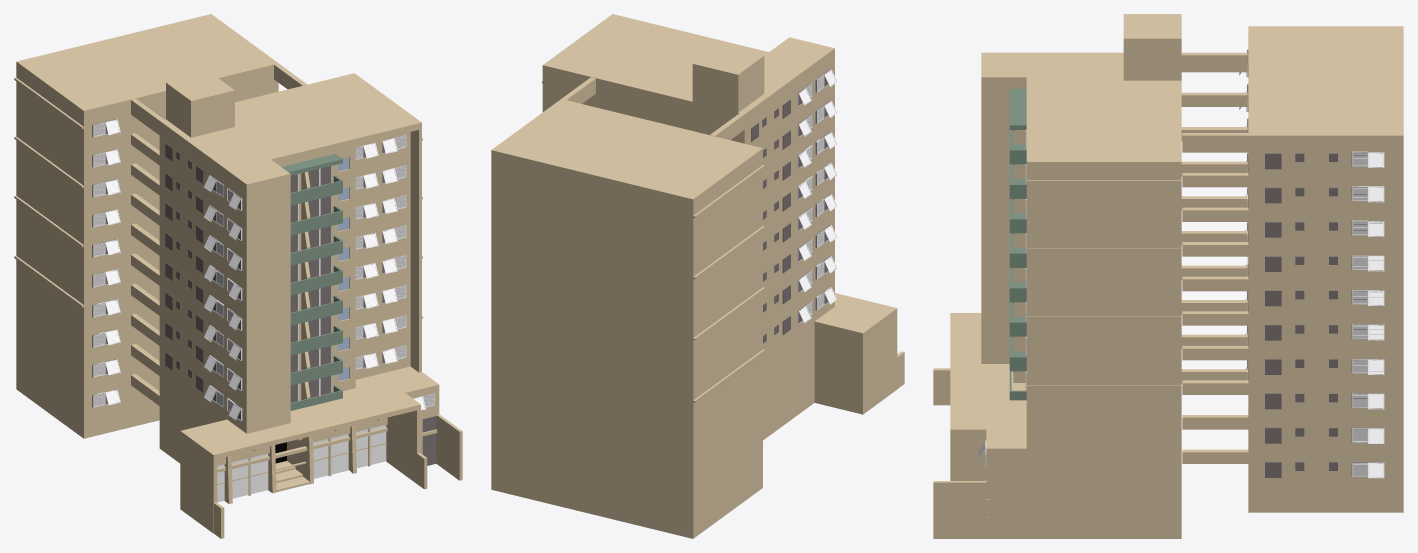
Rendered from barao.glb.
3 renders of one model, left to right at view 1: azimuth 30°, elevation 25°; view 2: azimuth 150°, elevation 25°; view 3: azimuth 270°, elevation 25°, orthographic. The views are drawn at different scales.
Visible parts, largest first — view 1: Cube.019, Cube.005, Cube.003, Cube.002, Cube.021, Cube.017, Cube.054, Cube.027, Cube.028, Cube.004, Cube.008, Cube.026 (+15 smaller); view 2: Cube.019, Cube.005, Cube.002, Cube.003, Cube.028, Cube.025, Cube.026, Cube.024, Cube.029, Cube.017, Cube.020; view 3: Cube.005, Cube.019, Cube.020, Cube.003, Cube.017, Cube.002, Cube.033, Cube.015, Cube.028, Cube.021, Cube.034, Cube.001 (+6 smaller).
Part boxes in pixels (<box>): Cube.019: <box>16,14,278,438</box>; Cube.005: <box>159,73,421,476</box>; Cube.003: <box>227,159,290,433</box>; Cube.002: <box>180,380,420,533</box>; Cube.021: <box>290,175,342,410</box>; Cube.017: <box>131,98,163,405</box>; Cube.054: <box>290,166,331,402</box>; Cube.027: <box>92,119,120,407</box>; Cube.028: <box>166,72,234,137</box>; Cube.004: <box>382,135,406,364</box>; Cube.008: <box>355,142,378,369</box>; Cube.026: <box>204,175,224,407</box>; Cube.019: <box>491,99,762,538</box>; Cube.005: <box>542,14,814,440</box>; Cube.002: <box>814,293,897,414</box>; Cube.003: <box>769,37,834,320</box>; Cube.028: <box>692,44,764,112</box>; Cube.025: <box>815,69,837,310</box>; Cube.026: <box>797,82,813,323</box>; Cube.024: <box>693,165,764,402</box>; Cube.029: <box>782,99,790,334</box>; Cube.017: <box>710,113,744,139</box>; Cube.020: <box>561,77,595,103</box>; Cube.005: <box>1026,52,1181,538</box>; Cube.019: <box>1248,26,1403,512</box>; Cube.020: <box>1182,133,1248,463</box>; Cube.003: <box>981,52,1026,363</box>; Cube.017: <box>1181,52,1247,383</box>; Cube.002: <box>950,313,1026,480</box>; Cube.033: <box>1351,151,1384,478</box>; Cube.015: <box>933,481,1026,538</box>; Cube.028: <box>1123,14,1181,80</box>; Cube.021: <box>1009,130,1026,400</box>; Cube.034: <box>1265,153,1281,477</box>; Cube.001: <box>986,429,1026,483</box>.
Size of the model in its own units: 25.09 by 35.78 by 36.34.
